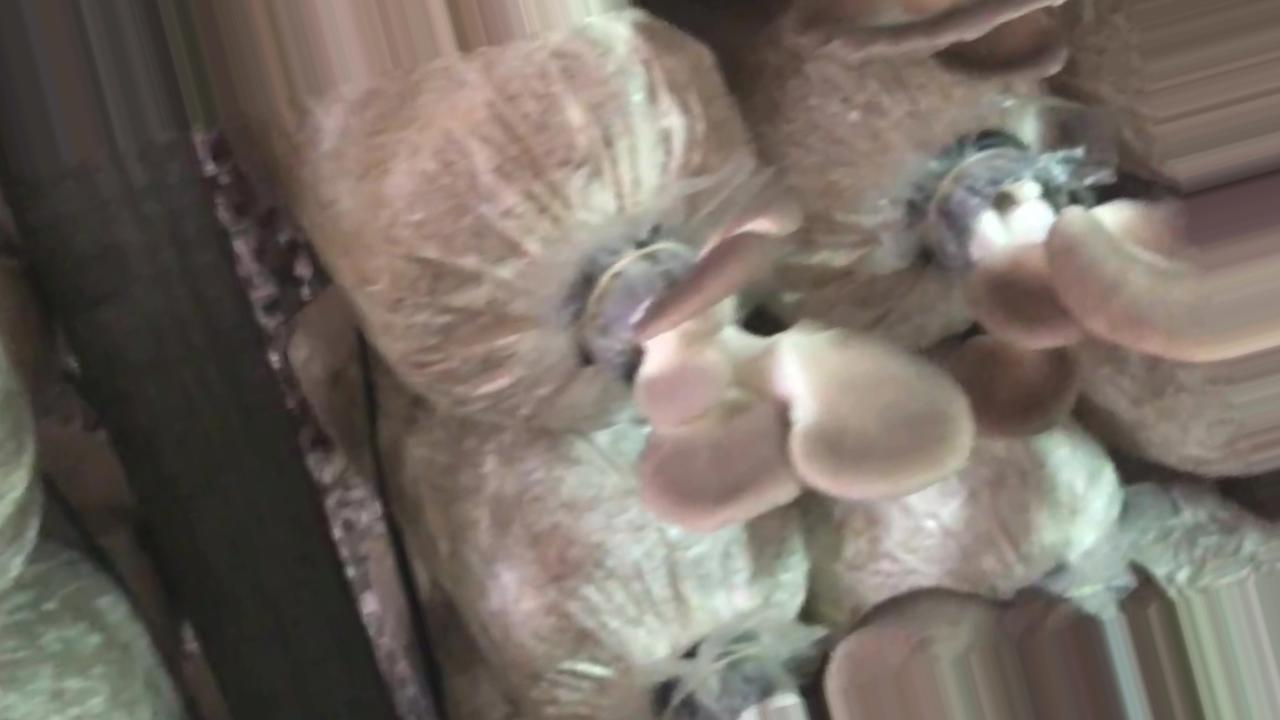nam: (606, 206, 974, 527), (939, 132, 1280, 365), (849, 606, 1088, 720)
